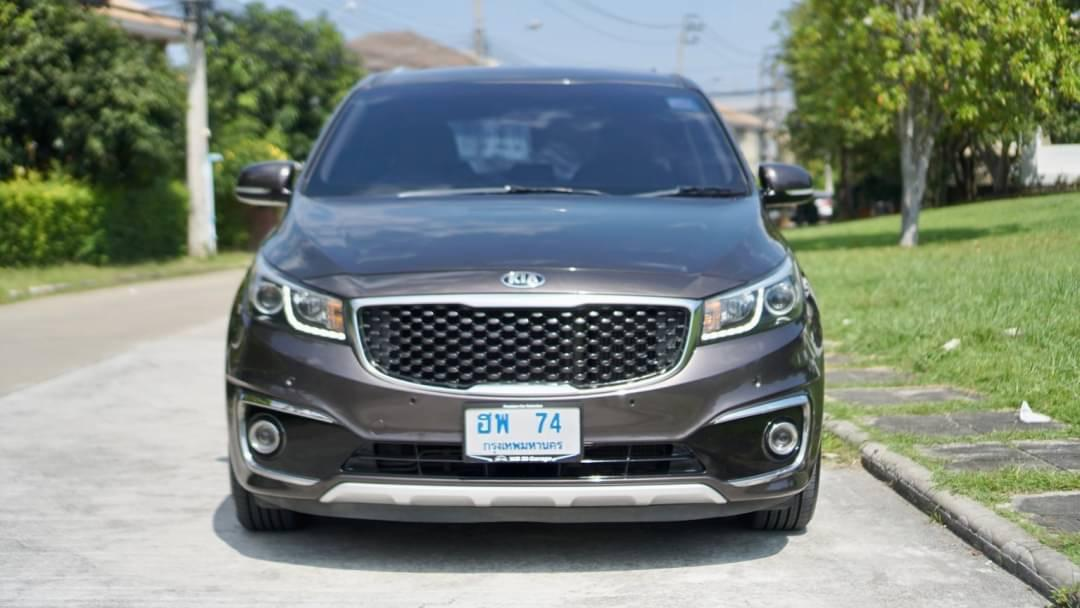license-plate: (461, 404, 584, 466)
